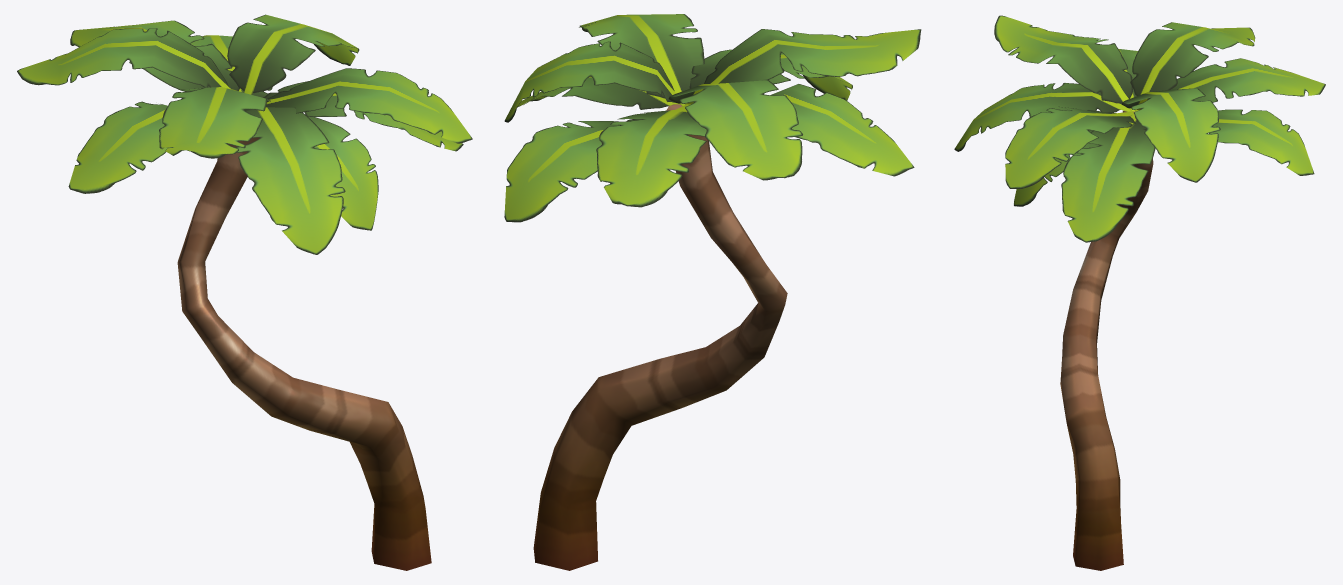
Rendered from PalmTree_2.fbx.
3 renders of one model, left to right at view 1: azimuth 30°, elevation 25°; view 2: azimuth 150°, elevation 25°; view 3: azimuth 270°, elevation 25°, orthographic. The views are drawn at different scales.
Visible parts, largest first — view 1: Palm_Tree_2; view 2: Palm_Tree_2; view 3: Palm_Tree_2.
Boxes of the visible parts, x1=… form: Palm_Tree_2: x1=17, y1=14, x2=472, y2=570; Palm_Tree_2: x1=504, y1=14, x2=921, y2=570; Palm_Tree_2: x1=954, y1=15, x2=1325, y2=570.
Size of the model in its own units: 11.32 by 14.7 by 11.34.
